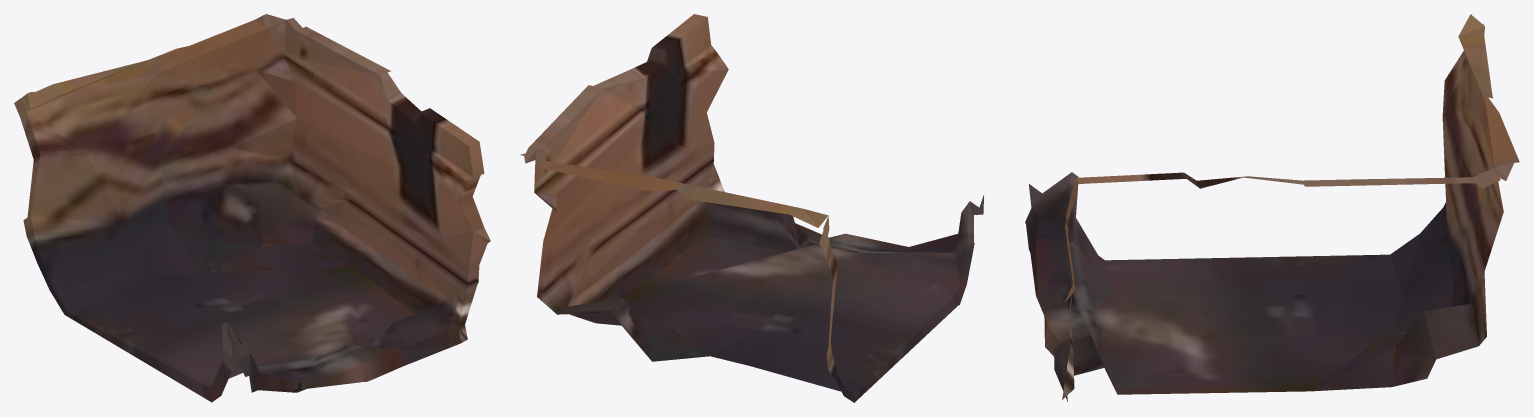
3 views of the same model, side by side, from view 1: azimuth 30°, elevation 25°; view 2: azimuth 150°, elevation 25°; view 3: azimuth 270°, elevation 25° (orthographic). The views are drawn at different scales.
Visible parts, largest first — view 1: Mesh_0; view 2: Mesh_0; view 3: Mesh_0.
Boxes of the visible parts, <box> form: Mesh_0: <box>14,14,490,402</box>; Mesh_0: <box>520,14,984,402</box>; Mesh_0: <box>1025,14,1519,401</box>.
Bounding box in the file's own units: 11.54 × 7.7 × 13.81.
Materials: 1 (1 with a texture image).
